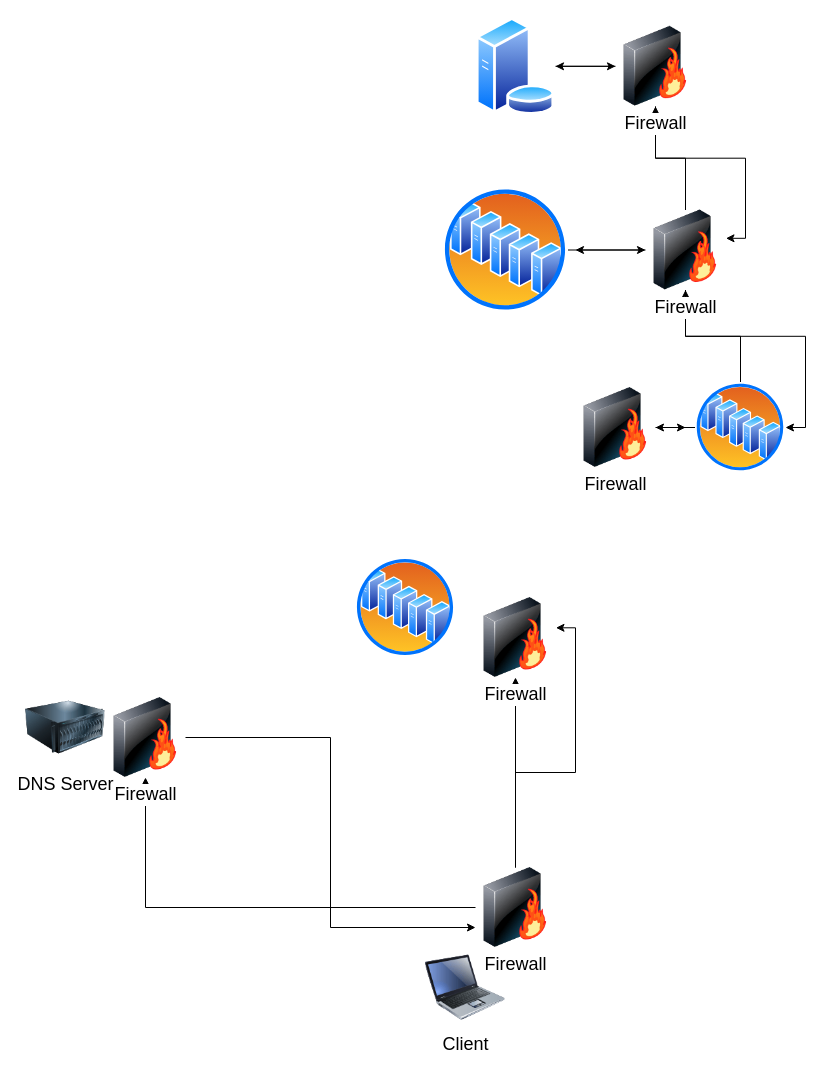
Some shapes in this 831 by 1073 pixel diagram are drawn without their labels. Each missing label, with the centre of its shape:
Application Server: (505,249)
Database Servers: (515,66)
Load Balancers: (405,607)
Web Servers: (740,427)
